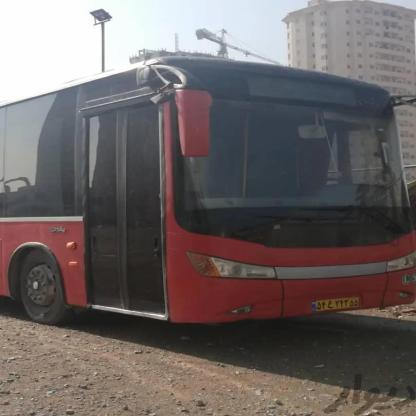Bus: (0, 60, 416, 335)
